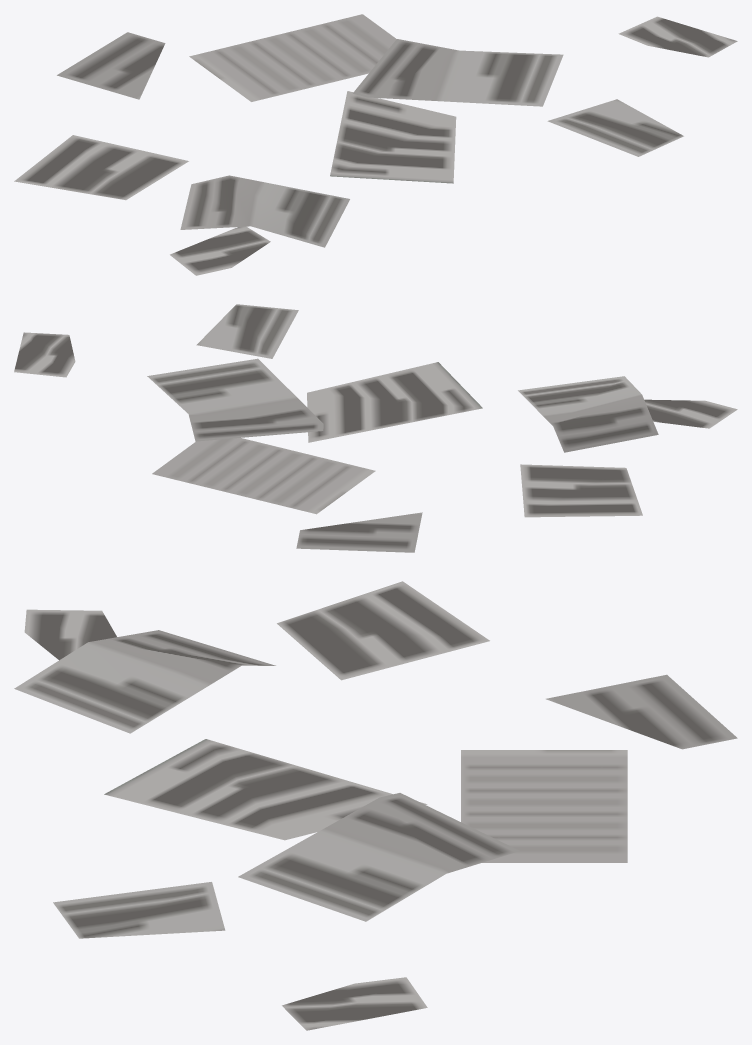
Rendered from SM_Prop_Rubbish_Papers_01.fbx.
The picture shows the model from 3 angles, top to bottom: view 1: azimuth 30°, elevation 25°; view 2: azimuth 150°, elevation 25°; view 3: azimuth 270°, elevation 25°; orthographic projection. The views are drawn at different scales.
Parts seen in each view (by area): view 1: SM_Prop_Rubbish_Papers_01; view 2: SM_Prop_Rubbish_Papers_01; view 3: SM_Prop_Rubbish_Papers_01.
Part boxes in pixels (x1,y1,x2,y2): SM_Prop_Rubbish_Papers_01: (14,14,737,275); SM_Prop_Rubbish_Papers_01: (14,304,737,552); SM_Prop_Rubbish_Papers_01: (14,581,737,1030).
Size of the model in its own units: 119 by 2.24 by 81.22.
